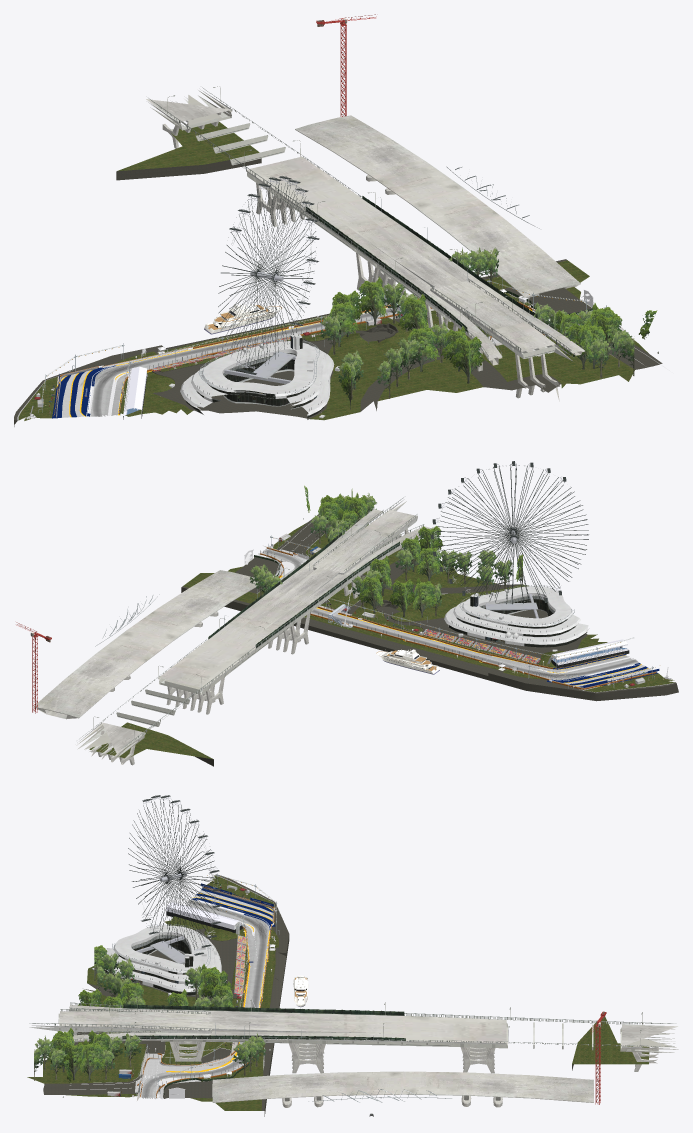
3 views of the same model, one above another, from view 1: azimuth 30°, elevation 25°; view 2: azimuth 150°, elevation 25°; view 3: azimuth 270°, elevation 25° (orthographic). The views are drawn at different scales.
Visible parts, largest first — view 1: m81_t11, m97_t11, m61_t11, m14_t11, m96_t11, m15_t11, m7_t11, m0_t11, m19_t11, m73_t11, m85_t11, m94_t11 (+5 smaller); view 2: m81_t11, m61_t11, m96_t11, m14_t11, m97_t11, m15_t11, m7_t11, m73_t11, m0_t11, m89_t11, m19_t11, m85_t11 (+7 smaller); view 3: m81_t11, m61_t11, m97_t11, m14_t11, m96_t11, m7_t11, m15_t11, m16_t11, m0_t11, m89_t11, m85_t11, m94_t11 (+4 smaller).
Part boxes in pixels (left/top/right/bottom): m81_t11: left=146, top=86, right=585, bottom=401; m97_t11: left=18, top=121, right=648, bottom=420; m61_t11: left=169, top=176, right=340, bottom=420; m14_t11: left=320, top=247, right=658, bottom=409; m96_t11: left=14, top=158, right=662, bottom=426; m15_t11: left=17, top=293, right=613, bottom=420; m7_t11: left=148, top=87, right=584, bottom=358; m0_t11: left=25, top=272, right=593, bottom=419; m19_t11: left=204, top=303, right=282, bottom=334; m73_t11: left=53, top=298, right=580, bottom=416; m85_t11: left=52, top=365, right=122, bottom=418; m94_t11: left=94, top=309, right=578, bottom=415; m81_t11: left=33, top=499, right=431, bottom=765; m61_t11: left=430, top=461, right=589, bottom=651; m96_t11: left=181, top=514, right=678, bottom=766; m14_t11: left=249, top=485, right=522, bottom=617; m97_t11: left=89, top=523, right=675, bottom=759; m15_t11: left=257, top=533, right=675, bottom=692; m7_t11: left=79, top=496, right=433, bottom=749; m73_t11: left=260, top=546, right=656, bottom=689; m0_t11: left=244, top=544, right=671, bottom=687; m89_t11: left=547, top=639, right=629, bottom=667; m19_t11: left=376, top=649, right=439, bottom=674; m85_t11: left=547, top=654, right=659, bottom=687; m81_t11: left=29, top=996, right=678, bottom=1107; m61_t11: left=92, top=795, right=226, bottom=995; m97_t11: left=27, top=875, right=649, bottom=1110; m14_t11: left=34, top=945, right=265, bottom=1097; m96_t11: left=43, top=874, right=573, bottom=1116; m7_t11: left=29, top=1002, right=676, bottom=1046; m15_t11: left=70, top=875, right=275, bottom=1098; m16_t11: left=135, top=890, right=275, bottom=1099; m0_t11: left=132, top=869, right=293, bottom=1098; m89_t11: left=166, top=902, right=242, bottom=934; m85_t11: left=192, top=883, right=275, bottom=962; m94_t11: left=143, top=901, right=265, bottom=1097.
Bounding box in the file's own units: 486 × 169 × 571.
33 materials, 32 textured.
